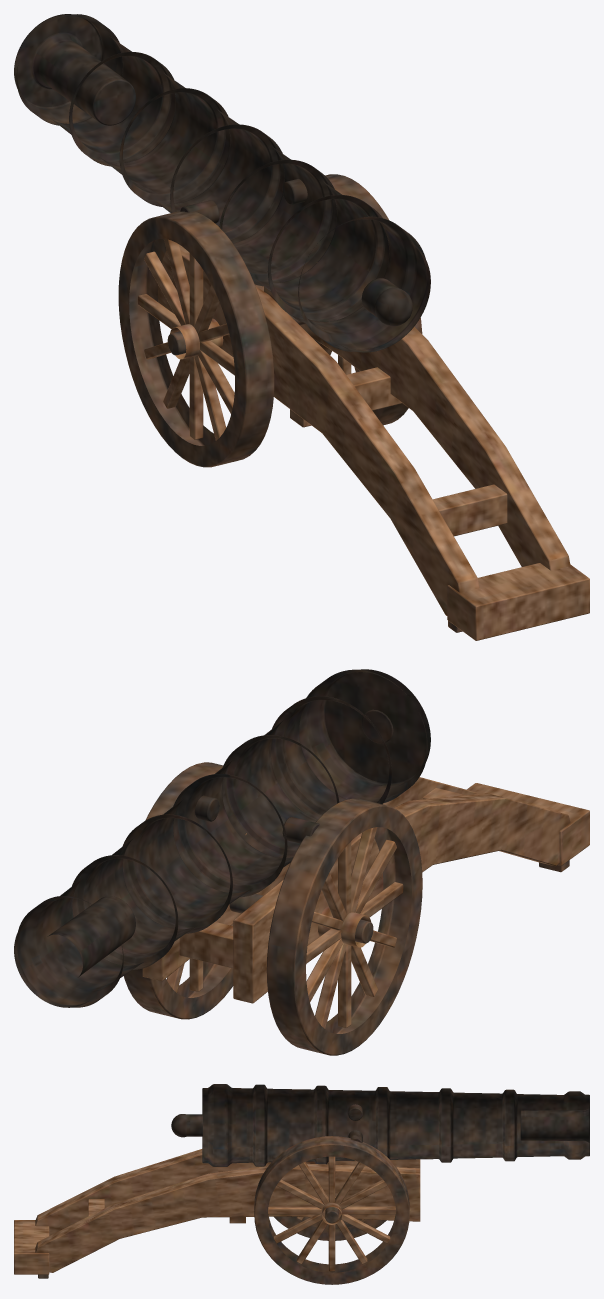
Rendered from ming_cannon.glb.
The picture shows the model from 3 angles, top to bottom: view 1: azimuth 30°, elevation 25°; view 2: azimuth 150°, elevation 25°; view 3: azimuth 270°, elevation 25°; orthographic projection. The views are drawn at different scales.
Parts seen in each view (by area): view 1: Cannon_Barrel, Cannon_Carriage, Wheel_R, Wheel_L; view 2: Cannon_Barrel, Wheel_R, Cannon_Carriage, Wheel_L; view 3: Cannon_Barrel, Cannon_Carriage, Wheel_L, Wheel_R.
Boxes of the visible parts, x1,y1,x2,y2 form: Cannon_Barrel: (14, 14, 430, 352); Cannon_Carriage: (157, 244, 589, 640); Wheel_R: (118, 211, 274, 467); Wheel_L: (314, 174, 422, 425); Cannon_Barrel: (14, 669, 430, 1007); Wheel_R: (266, 798, 422, 1055); Cannon_Carriage: (142, 777, 589, 1003); Wheel_L: (124, 762, 233, 1019); Cannon_Barrel: (171, 1084, 589, 1166); Cannon_Carriage: (14, 1149, 420, 1278); Wheel_L: (254, 1136, 409, 1284); Wheel_R: (274, 1216, 386, 1240).
Size of the model in its own units: 1.16 by 1.63 by 4.89.
3 materials, 3 textured.
